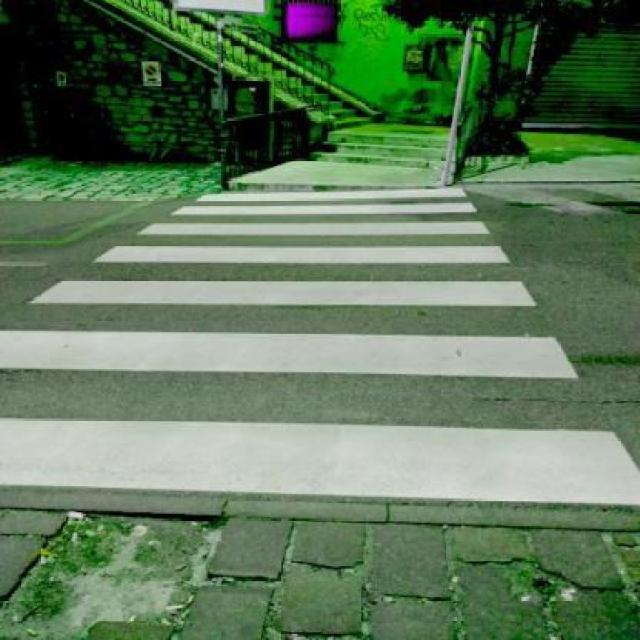crosswalk: (1, 186, 640, 504)
